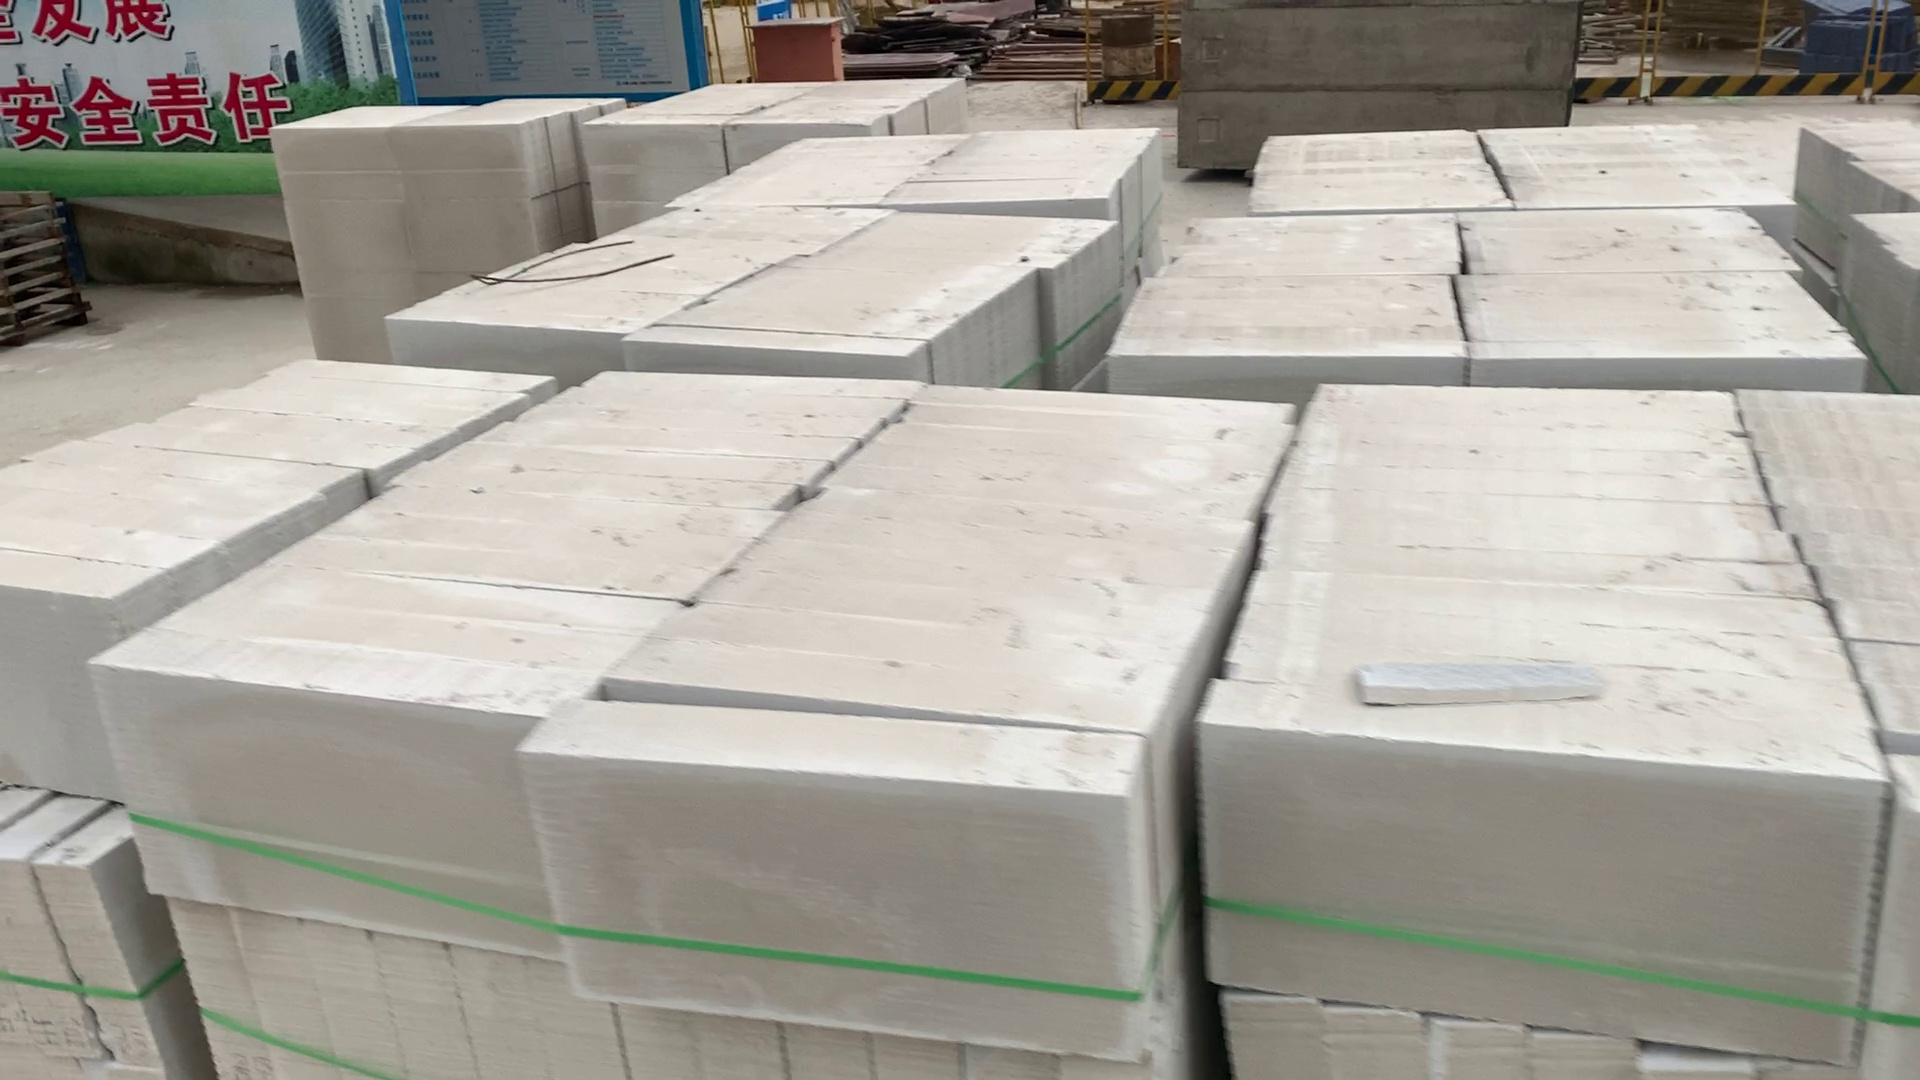brickwork: (185, 380, 1211, 1065), (1250, 364, 1920, 1075), (7, 373, 183, 1072), (1133, 216, 1857, 384), (443, 214, 1104, 357), (266, 88, 592, 293), (1257, 120, 1787, 218), (704, 127, 1153, 214), (595, 76, 973, 150)
